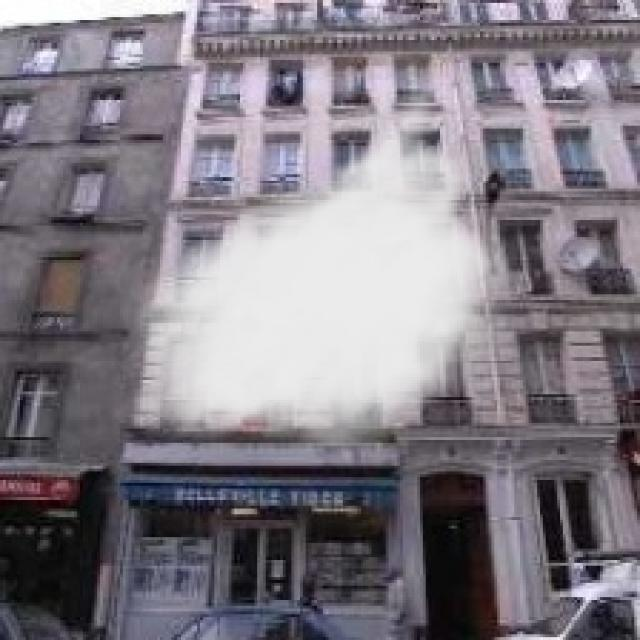Smoke: (108, 68, 520, 463)
